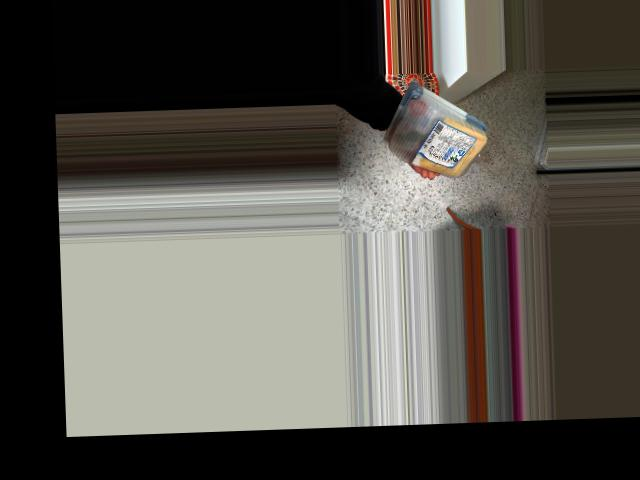cheese: (383, 86, 495, 181)
